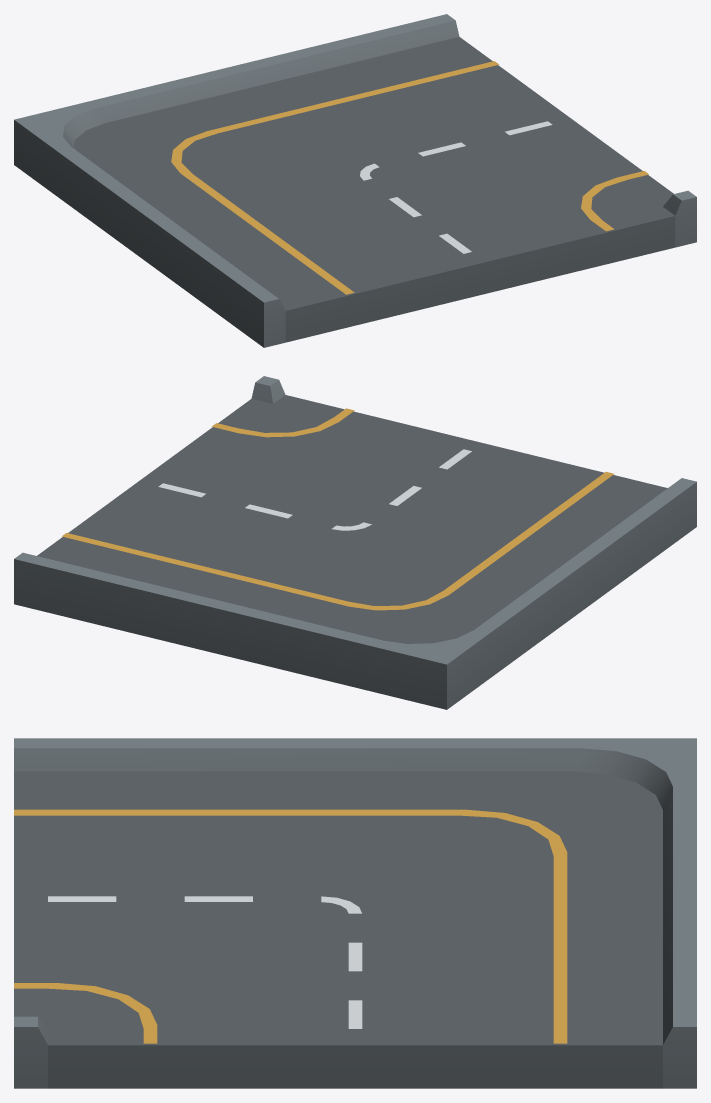
Rendered from corner_road.fbx.
3 renders of one model, top to bottom at view 1: azimuth 30°, elevation 25°; view 2: azimuth 150°, elevation 25°; view 3: azimuth 270°, elevation 25°, orthographic. The views are drawn at different scales.
Parts seen in each view (by area): view 1: road_corner; view 2: road_corner; view 3: road_corner.
Part boxes in pixels (x1,y1,x2,y2): road_corner: (14,14,696,347); road_corner: (14,376,696,709); road_corner: (14,738,696,1088).
Bounding box in the file's own units: 100 × 10 × 100.
Materials: 1 (1 with a texture image).
